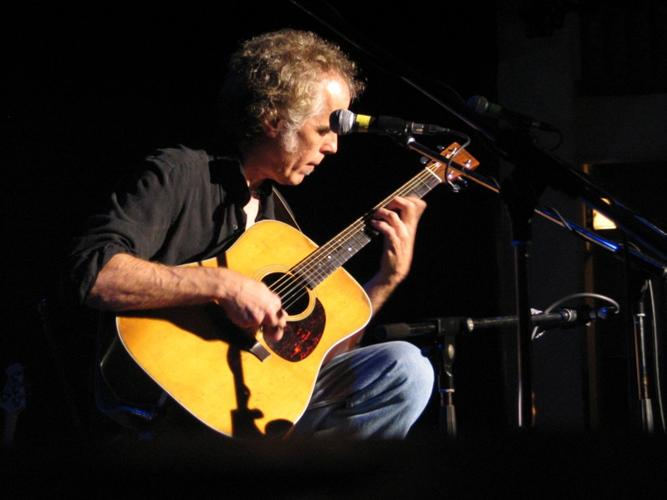person: (67, 28, 434, 436)
